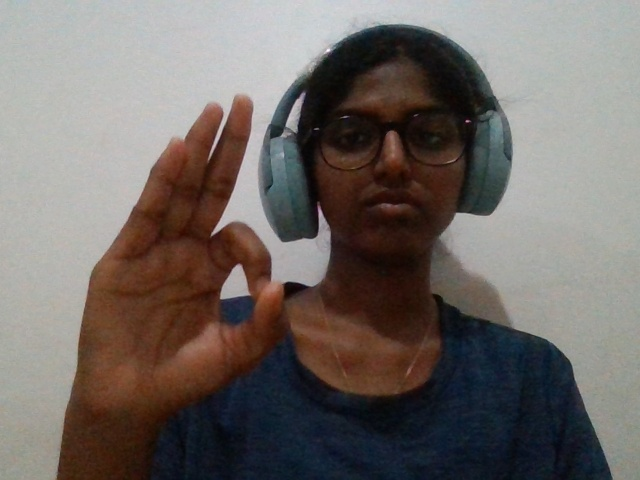F: (44, 54, 309, 480)
